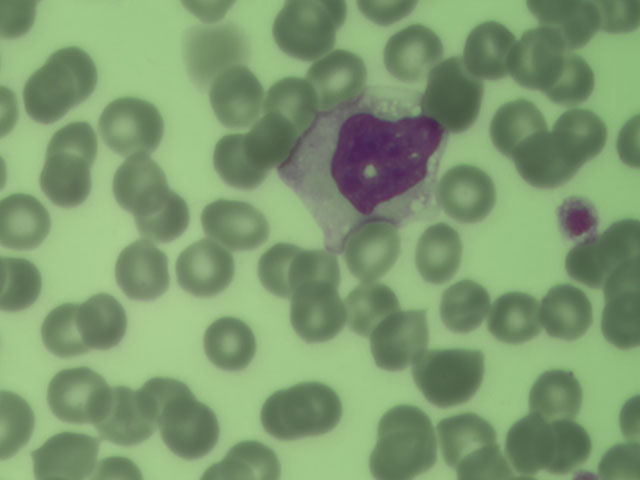Platelets: (557, 197, 601, 242)
RBC: (34, 432, 97, 480), (586, 219, 640, 274), (202, 320, 256, 372), (345, 281, 399, 333), (288, 292, 342, 344), (345, 223, 399, 275), (174, 246, 228, 298), (210, 199, 264, 251), (115, 248, 169, 300), (444, 169, 498, 221), (552, 105, 606, 157), (518, 137, 572, 189), (493, 99, 547, 151), (543, 58, 597, 110), (513, 30, 567, 82), (464, 24, 518, 76), (428, 66, 482, 118), (385, 24, 439, 76), (310, 52, 364, 104), (264, 76, 318, 128), (241, 113, 295, 165), (215, 139, 269, 191), (209, 71, 263, 123), (187, 22, 241, 74), (113, 152, 167, 204), (161, 404, 215, 456), (140, 371, 194, 423), (100, 390, 154, 442), (49, 371, 103, 423), (75, 297, 129, 349), (38, 304, 92, 356), (102, 97, 156, 149), (45, 116, 99, 168), (39, 155, 93, 207), (46, 45, 100, 97), (438, 408, 492, 460), (375, 413, 429, 465), (255, 387, 309, 439), (289, 380, 343, 432), (427, 349, 481, 401), (377, 314, 431, 366), (436, 278, 490, 330), (413, 227, 467, 279), (544, 419, 598, 471), (503, 417, 557, 469), (529, 369, 583, 421), (489, 289, 543, 341), (540, 285, 594, 337), (279, 1, 333, 51), (1, 381, 36, 458), (216, 441, 284, 480), (601, 278, 640, 345), (1, 194, 51, 244), (21, 72, 70, 122), (292, 247, 342, 295), (547, 1, 601, 45), (255, 242, 301, 292), (131, 194, 184, 237), (1, 257, 43, 309), (450, 446, 508, 480), (177, 1, 238, 32), (594, 440, 640, 480), (616, 104, 640, 179), (352, 1, 421, 26), (593, 1, 640, 34), (1, 1, 36, 38), (1, 78, 23, 136)
WBC: (313, 107, 443, 216)
